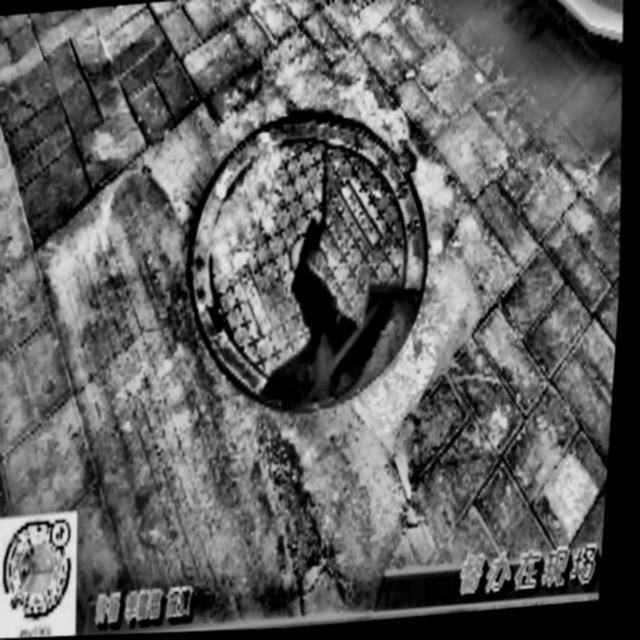open_manhole: (190, 110, 426, 408)
